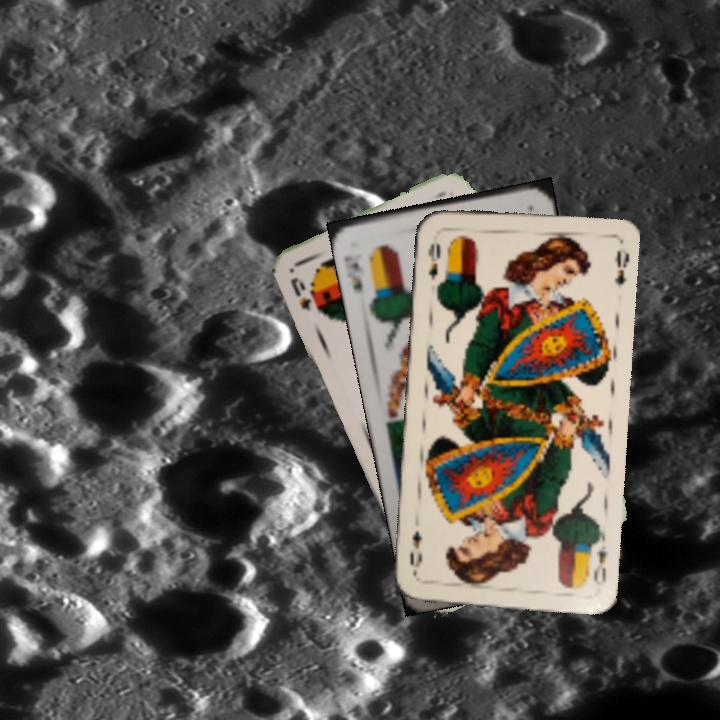EK: (341, 251, 365, 296)
EO: (585, 531, 610, 588), (423, 239, 443, 284)
SO: (286, 273, 314, 313)
